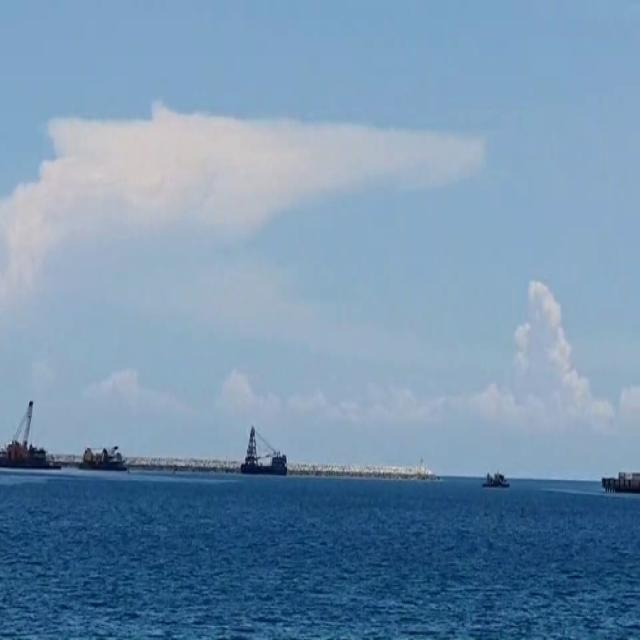civilianship: (228, 408, 301, 486), (2, 390, 55, 477), (73, 420, 131, 488), (479, 458, 518, 503)
